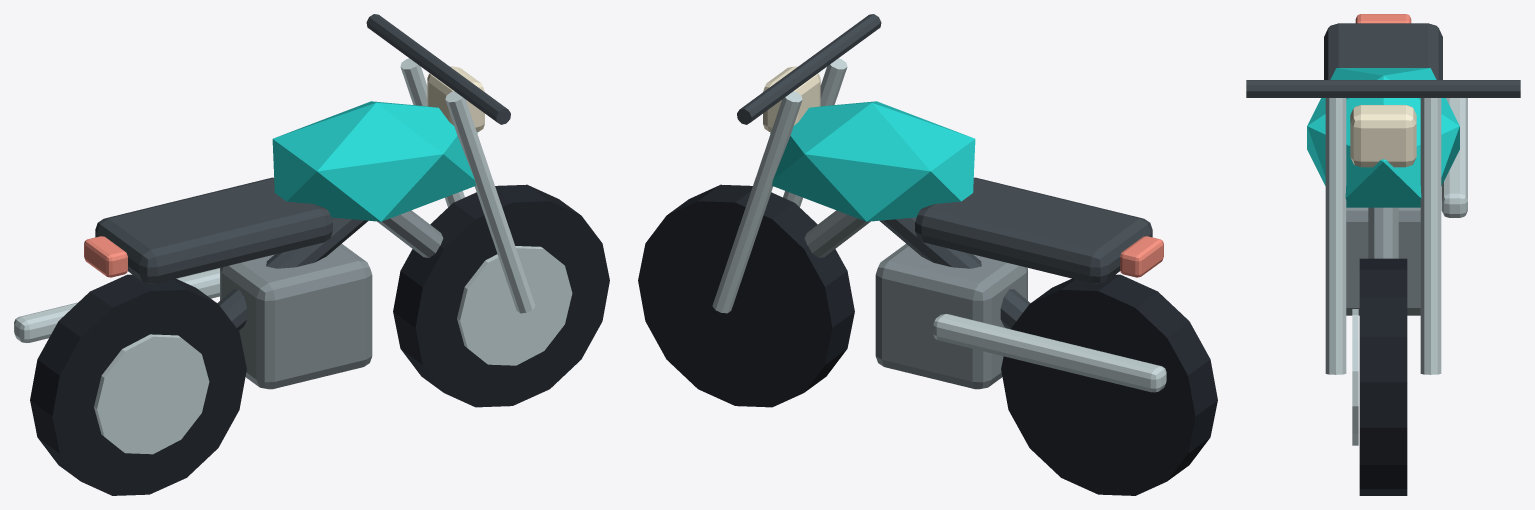
The model's file is Motorcycle.fbx.
3 renders of one model, left to right at view 1: azimuth 30°, elevation 25°; view 2: azimuth 150°, elevation 25°; view 3: azimuth 270°, elevation 25°, orthographic. The views are drawn at different scales.
Parts seen in each view (by area): view 1: Motorcycle; view 2: Motorcycle; view 3: Motorcycle.
Boxes of the visible parts, x1,y1,x2,y2 form: Motorcycle: (14, 14, 609, 495); Motorcycle: (638, 14, 1217, 495); Motorcycle: (1246, 14, 1520, 495).
Bounding box in the file's own units: 258 × 155 × 104.
